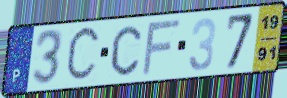3: (31, 28, 65, 89), (188, 16, 217, 72)
7: (225, 12, 255, 71)
C: (64, 23, 103, 86), (109, 24, 143, 78)
F: (140, 17, 183, 78)
